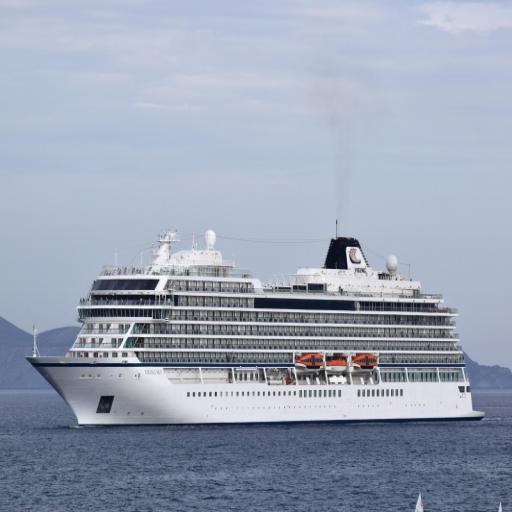cruises: (22, 218, 490, 432)
